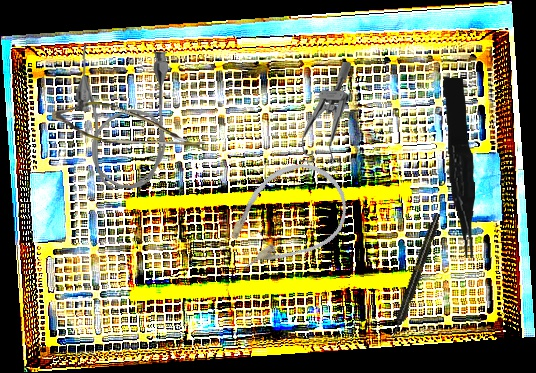Cannula: (208, 146, 362, 290), (75, 42, 170, 190)
Handpiece: (387, 212, 444, 340)
Micro Scissor: (51, 101, 210, 152)
Speculum: (299, 60, 352, 174)
Tissue Forceps: (442, 77, 478, 259)
